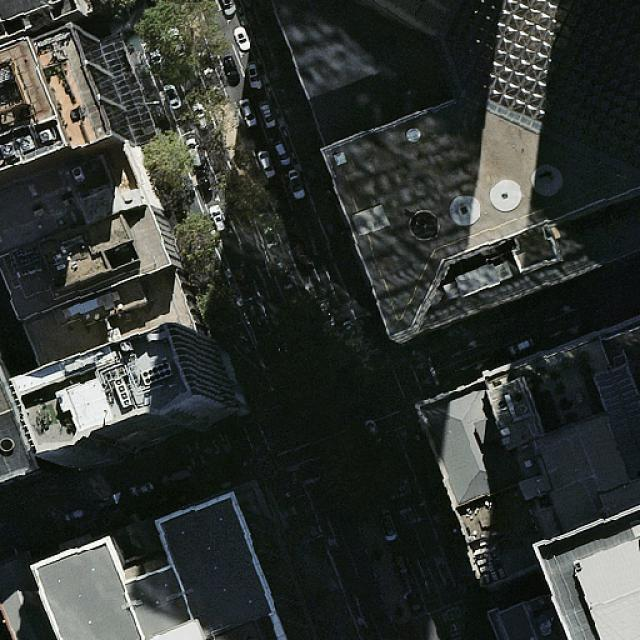Bike-Symbols: (152, 105, 166, 118), (419, 377, 436, 387), (412, 359, 429, 369), (353, 615, 367, 626), (325, 536, 339, 546)
